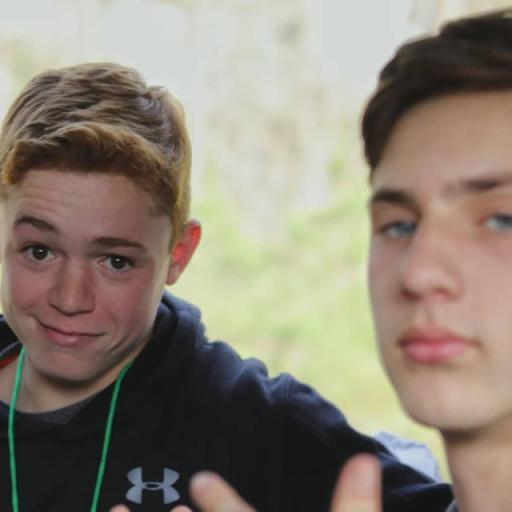Under Armour: (115, 462, 184, 511)
